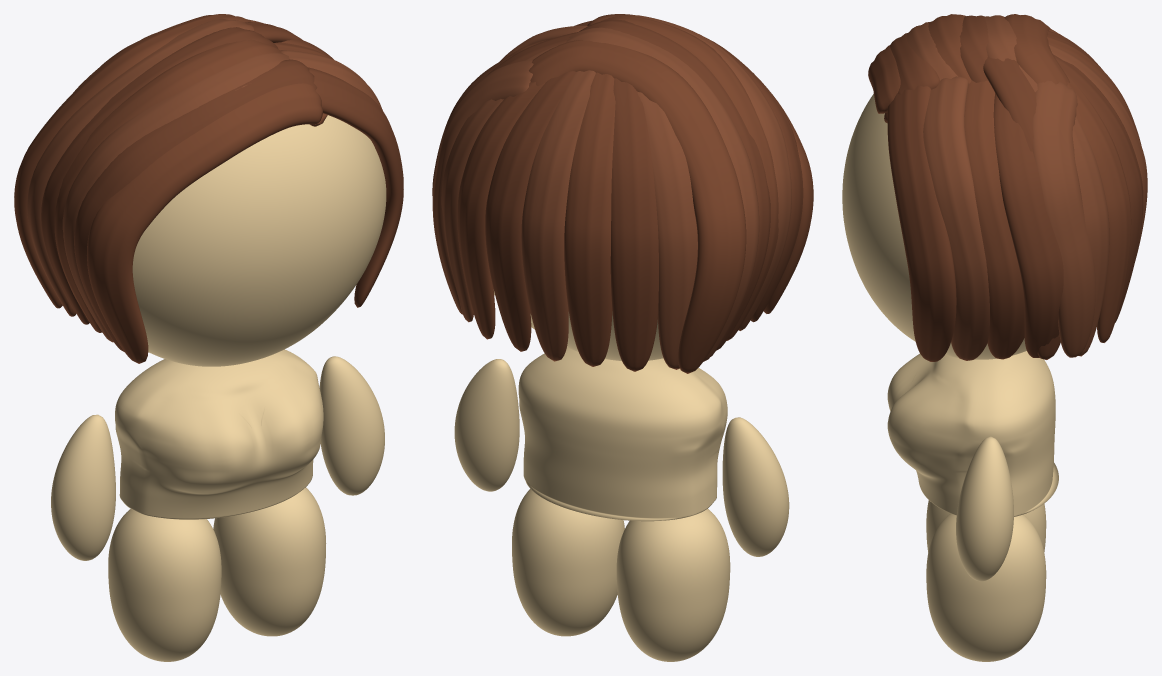
The model's file is Feminine-base.glb.
The picture shows the model from 3 angles, left to right: view 1: azimuth 30°, elevation 25°; view 2: azimuth 150°, elevation 25°; view 3: azimuth 270°, elevation 25°; orthographic projection.
Visible parts, largest first — view 1: Skin / soft oval head, Skin / rounded torso, Hair / Bob / side sweep 0, Skin / leg blob -1, Skin / leg blob 1, Hair / Bob / side sweep 1, Skin / swept arm -1, Skin / swept arm 1, Hair / Bob / side sweep 2, Hair / Bob / side sweep 3, Hair / Bob / side sweep 7, Hair / Bob / side sweep 6 (+4 smaller); view 2: Skin / rounded torso, Hair / Bob / side sweep 6, Skin / leg blob -1, Skin / leg blob 1, Hair / Bob / side sweep 19, Hair / Bob / side sweep 18, Hair / Bob / side sweep 17, Hair / Bob / side sweep 16, Hair / Bob / side sweep 20, Skin / swept arm -1, Hair / Bob / side sweep 15, Skin / swept arm 1 (+11 smaller); view 3: Skin / rounded torso, Skin / leg blob 1, Hair / Bob / side sweep 7, Skin / soft oval head, Hair / Bob / side sweep 8, Hair / Bob / side sweep 11, Hair / Bob / side sweep 10, Hair / Bob / side sweep 9, Skin / swept arm 1, Hair / Bob / side sweep 15, Hair / Bob / side sweep 14, Hair / Bob / side sweep 16 (+11 smaller).
Part boxes in pixels (x1=…): Skin / soft oval head: x1=132, y1=115, x2=386, y2=366; Skin / rounded torso: x1=115, y1=349, x2=323, y2=519; Hair / Bob / side sweep 0: x1=87, y1=83, x2=327, y2=363; Skin / leg blob -1: x1=108, y1=509, x2=221, y2=661; Skin / leg blob 1: x1=213, y1=487, x2=326, y2=636; Hair / Bob / side sweep 1: x1=74, y1=59, x2=317, y2=351; Skin / swept arm -1: x1=51, y1=414, x2=115, y2=560; Skin / swept arm 1: x1=319, y1=356, x2=384, y2=495; Hair / Bob / side sweep 2: x1=62, y1=52, x2=289, y2=342; Hair / Bob / side sweep 3: x1=54, y1=39, x2=281, y2=332; Hair / Bob / side sweep 7: x1=308, y1=67, x2=403, y2=307; Hair / Bob / side sweep 6: x1=14, y1=14, x2=250, y2=308; Skin / rounded torso: x1=518, y1=347, x2=727, y2=521; Hair / Bob / side sweep 6: x1=529, y1=40, x2=746, y2=373; Skin / leg blob -1: x1=616, y1=508, x2=730, y2=661; Skin / leg blob 1: x1=512, y1=489, x2=624, y2=636; Hair / Bob / side sweep 19: x1=610, y1=78, x2=658, y2=371; Hair / Bob / side sweep 18: x1=564, y1=72, x2=615, y2=366; Hair / Bob / side sweep 17: x1=521, y1=70, x2=595, y2=361; Hair / Bob / side sweep 16: x1=485, y1=71, x2=576, y2=351; Hair / Bob / side sweep 20: x1=637, y1=91, x2=697, y2=369; Skin / swept arm -1: x1=722, y1=417, x2=789, y2=556; Hair / Bob / side sweep 15: x1=457, y1=82, x2=545, y2=339; Skin / swept arm 1: x1=454, y1=359, x2=519, y2=491; Skin / rounded torso: x1=887, y1=351, x2=1058, y2=516; Skin / leg blob 1: x1=926, y1=513, x2=1046, y2=661; Hair / Bob / side sweep 7: x1=887, y1=85, x2=956, y2=361; Skin / soft oval head: x1=842, y1=93, x2=1026, y2=359; Hair / Bob / side sweep 8: x1=923, y1=76, x2=989, y2=360; Hair / Bob / side sweep 11: x1=1032, y1=80, x2=1095, y2=357; Hair / Bob / side sweep 10: x1=993, y1=93, x2=1063, y2=357; Hair / Bob / side sweep 9: x1=964, y1=80, x2=1024, y2=359; Skin / swept arm 1: x1=956, y1=436, x2=1013, y2=581; Hair / Bob / side sweep 15: x1=1067, y1=76, x2=1131, y2=342; Hair / Bob / side sweep 14: x1=1019, y1=65, x2=1109, y2=356; Hair / Bob / side sweep 16: x1=1053, y1=54, x2=1143, y2=322.
Size of the model in its own units: 1.04 by 1.86 by 0.8526.
